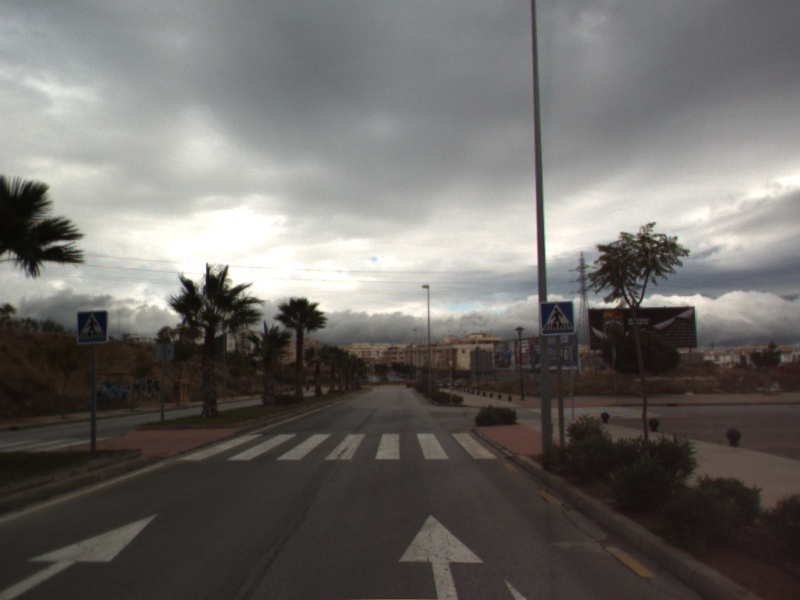STRAIGHT: (1, 512, 160, 600), (397, 512, 486, 600)
